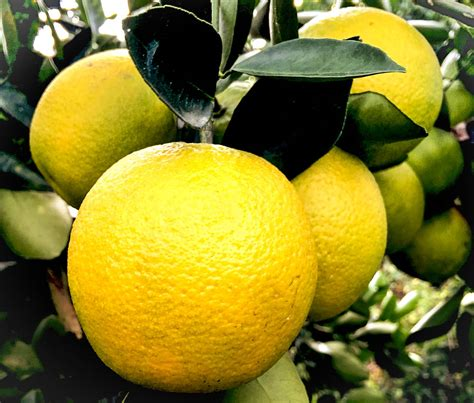orange: (62, 136, 320, 398), (26, 41, 168, 203), (285, 6, 448, 146)
